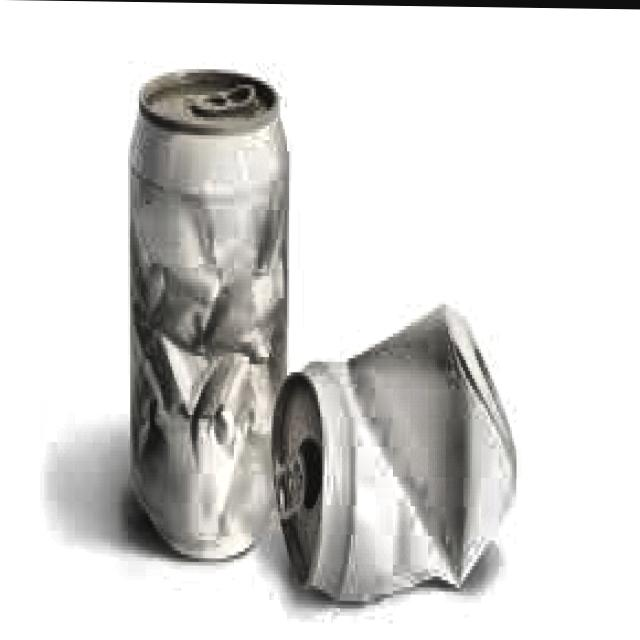can: (121, 50, 292, 582), (268, 277, 528, 614)
